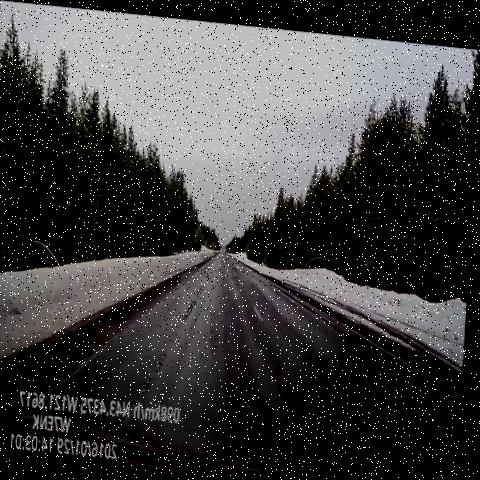pothole: (133, 336, 179, 406), (182, 269, 213, 326), (209, 296, 223, 358), (243, 376, 264, 415)
